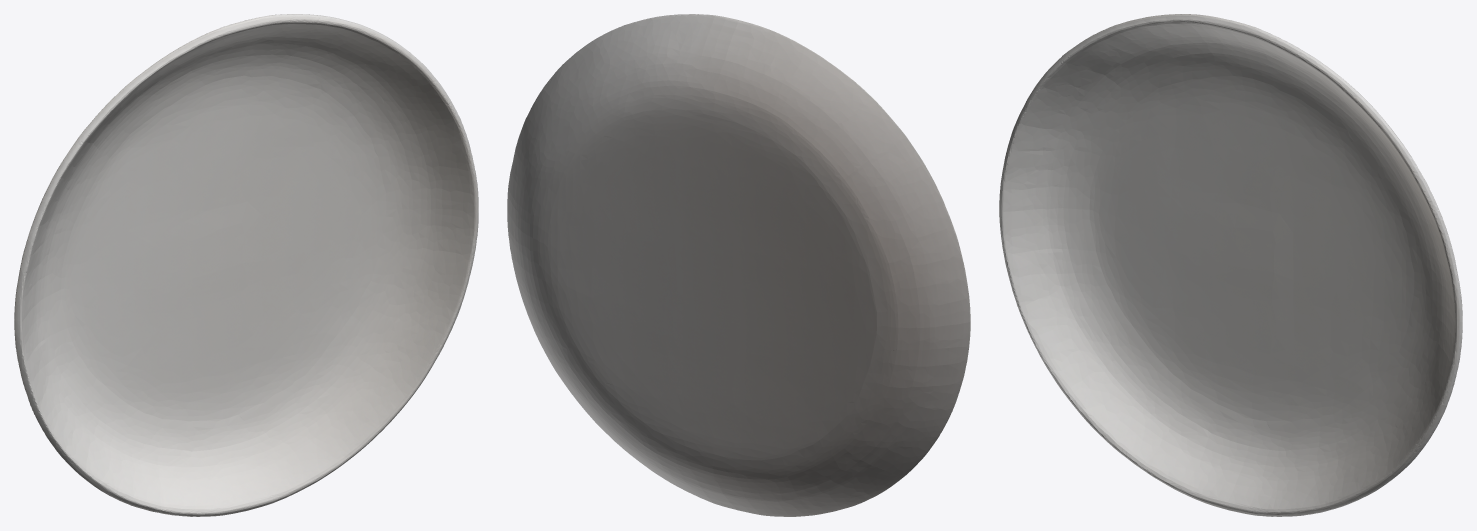
The model's file is plate_visual_0.obj.
The picture shows the model from 3 angles, left to right: view 1: azimuth 30°, elevation 25°; view 2: azimuth 150°, elevation 25°; view 3: azimuth 330°, elevation 25°; orthographic projection.
Bounding box in the file's own units: 0.9899 × 0.9997 × 0.1128.
1 material, 1 textured.
